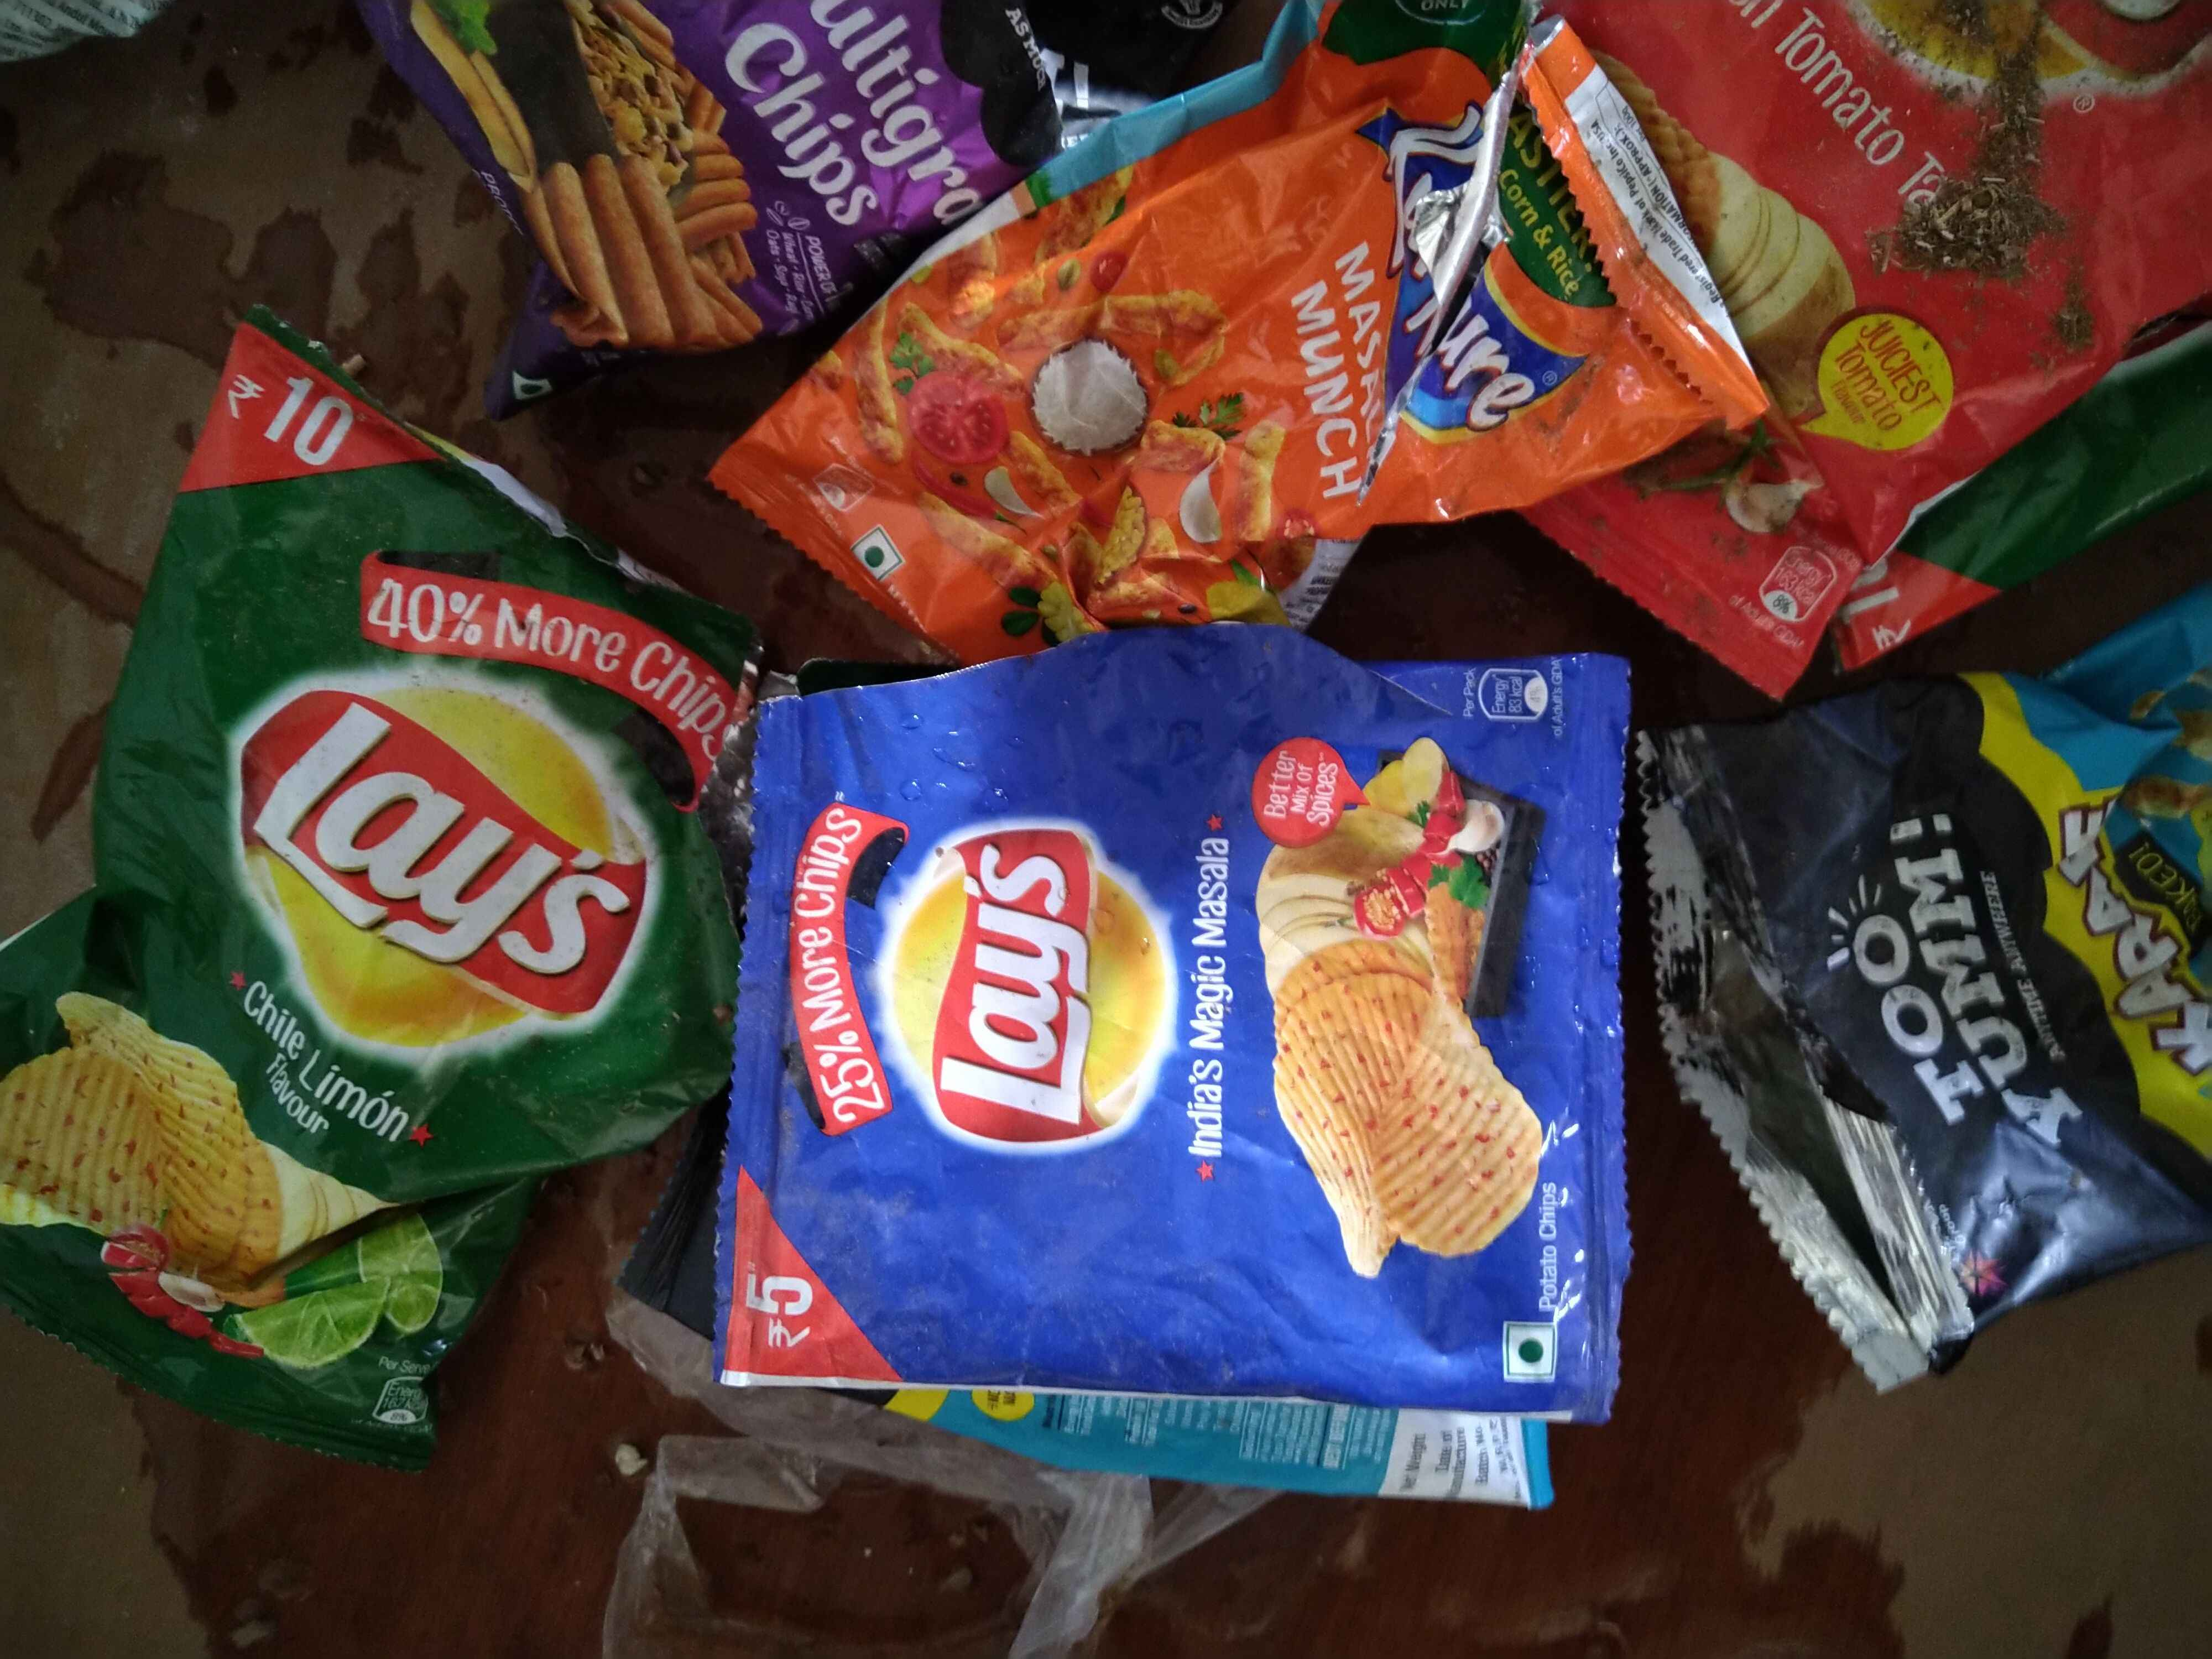Lays: (188, 657, 658, 976), (892, 798, 1179, 1159)
kurkure: (1367, 94, 1588, 458)
tooyumm: (1838, 793, 2088, 1164)
